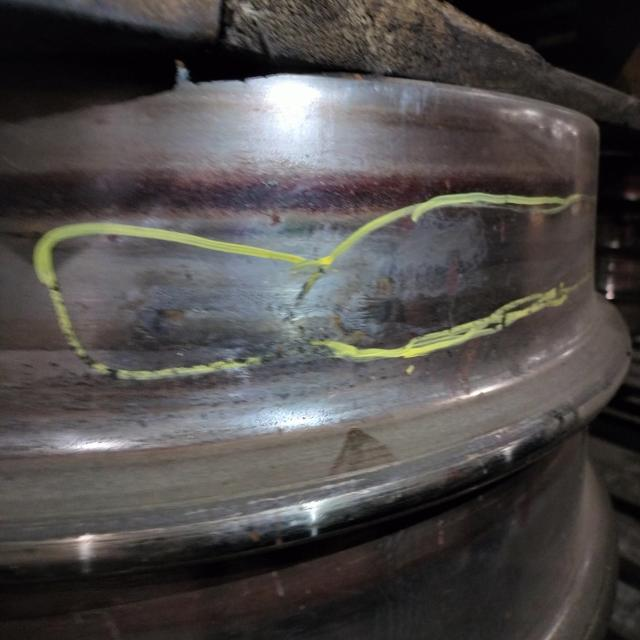flat: (92, 216, 537, 368)
